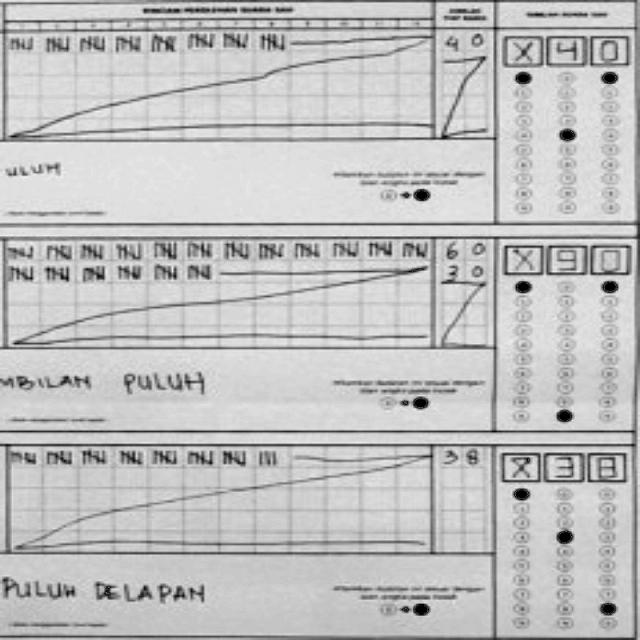Suara: (495, 444, 633, 486), (497, 30, 634, 72), (498, 238, 636, 278)
